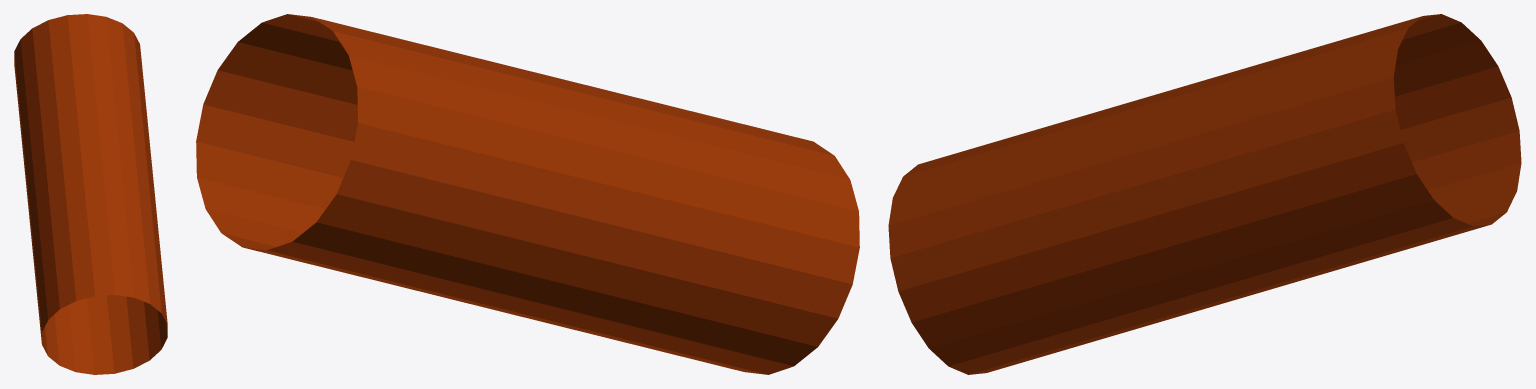
Rendered from tree_0129.obj.
The picture shows the model from 3 angles, left to right: view 1: azimuth 30°, elevation 25°; view 2: azimuth 150°, elevation 25°; view 3: azimuth 270°, elevation 25°; orthographic projection. The views are drawn at different scales.
Parts seen in each view (by area): view 1: groupWood; view 2: groupWood; view 3: groupWood.
Boxes of the visible parts, x1=… form: groupWood: x1=14, y1=14, x2=167, y2=374; groupWood: x1=196, y1=14, x2=859, y2=374; groupWood: x1=888, y1=14, x2=1521, y2=374.
Bounding box in the file's own units: 0.4446 × 0.4758 × 0.6408.
